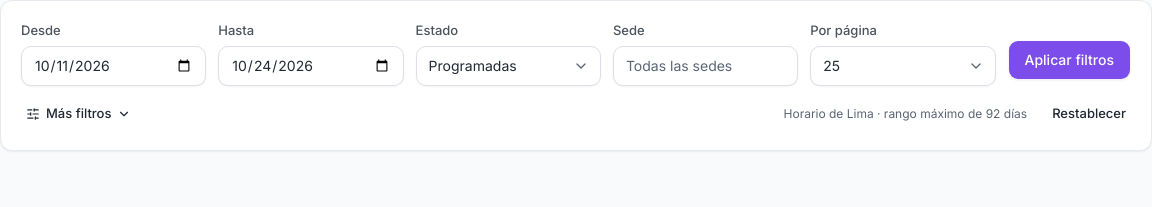
Test: Filtros de reservas (HU-03) › impide un rango mayor de 92 días y una sede no numérica
Type "2026-01-01" into the date field labelled "Desde" at (114, 66), box [21,46,206,86]
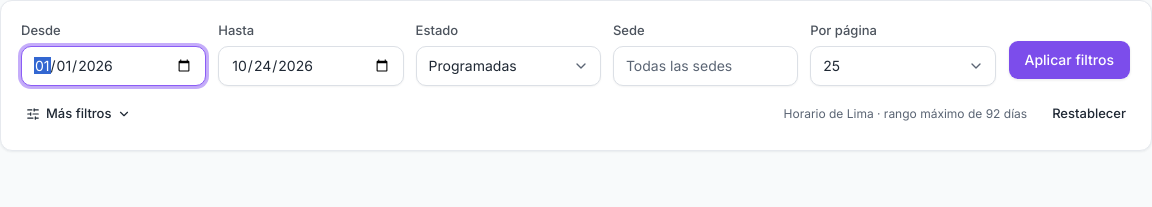
Type "2026-06-30" into the date field labelled "Hasta" at (311, 66), box [218,46,404,86]
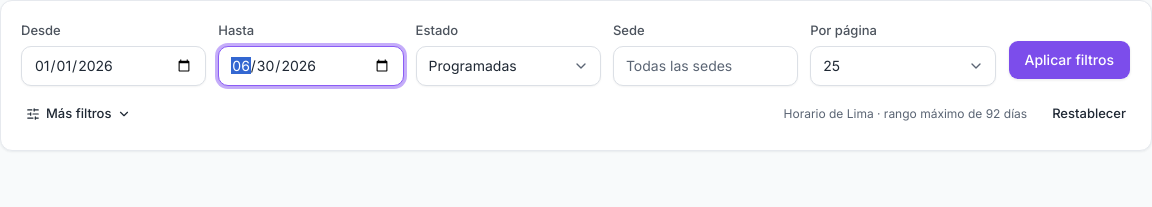
Type "sede" into the field labelled "Sede" at (706, 66), box [613,46,798,86]
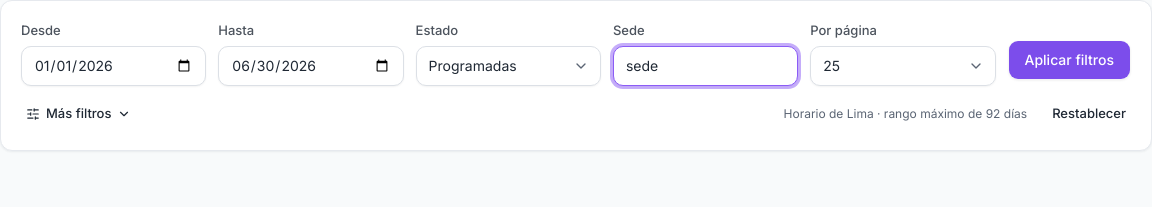
Click the button "Aplicar filtros" at (1069, 60), box [1008,40,1131,80]
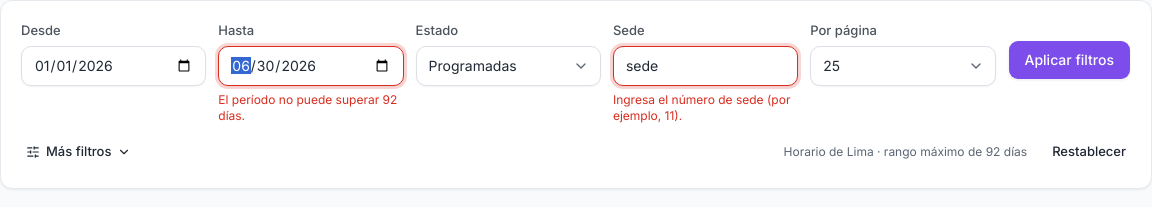
Now the text "El período no puede superar 92 días." is shown, box [218,92,404,124]
Now the text "Ingresa el número de sede (por ejemplo, 11)." is shown, box [613,92,798,124]
